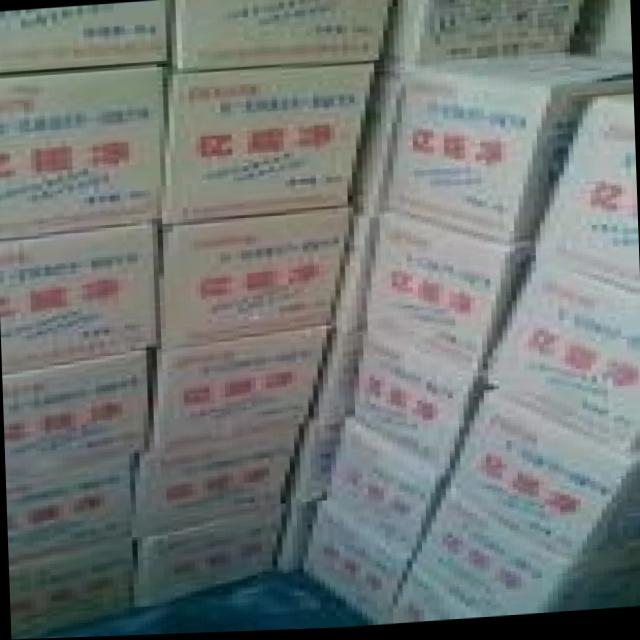box: (382, 51, 628, 241), (439, 387, 640, 562), (162, 62, 377, 221), (0, 63, 173, 238), (356, 206, 534, 376), (408, 488, 640, 618), (474, 270, 637, 455), (159, 205, 349, 350), (0, 219, 165, 372), (148, 330, 329, 451), (534, 92, 630, 298), (353, 336, 480, 482), (128, 424, 300, 530), (5, 351, 153, 473), (327, 420, 445, 558), (162, 0, 391, 71), (135, 502, 285, 606), (300, 494, 412, 625), (9, 530, 143, 639), (385, 0, 592, 65), (8, 451, 137, 555), (0, 3, 171, 72), (344, 62, 407, 205), (333, 204, 386, 335), (373, 563, 472, 623), (288, 423, 358, 502), (308, 330, 361, 425), (280, 497, 326, 571)
